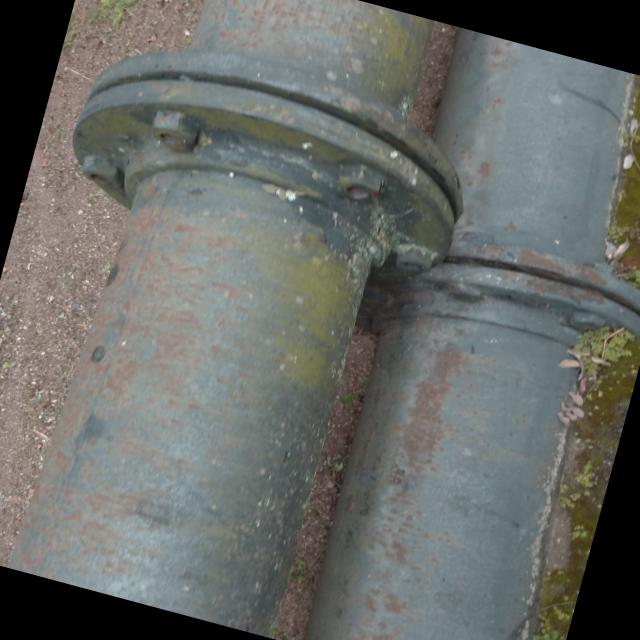gas: (4, 0, 446, 640), (302, 28, 640, 640)
